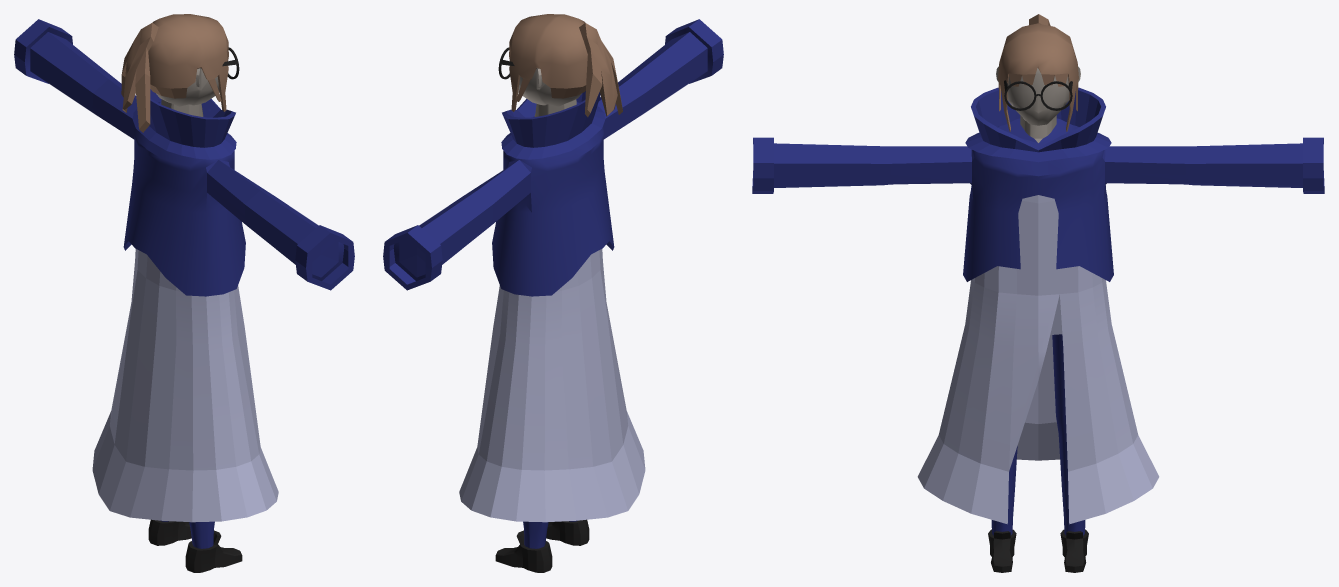
Rendered from Lapis.fbx.
3 views of the same model, side by side, from view 1: azimuth 30°, elevation 25°; view 2: azimuth 150°, elevation 25°; view 3: azimuth 270°, elevation 25° (orthographic). The views are drawn at different scales.
Parts seen in each view (by area): view 1: LBody, LHair, LHead; view 2: LBody, LHair, LHead; view 3: LBody, LHair, LHead.
Part boxes in pixels (left/top/right/bottom): LBody: left=14, top=19, right=354, bottom=572; LHair: left=121, top=14, right=228, bottom=132; LHead: left=156, top=68, right=219, bottom=106; LBody: left=383, top=19, right=723, bottom=572; LHair: left=509, top=14, right=622, bottom=117; LHead: left=518, top=68, right=581, bottom=106; LBody: left=752, top=87, right=1324, bottom=572; LHair: left=998, top=14, right=1078, bottom=131; LHead: left=996, top=66, right=1080, bottom=125.
Size of the model in its own units: 199 by 723 by 713.
